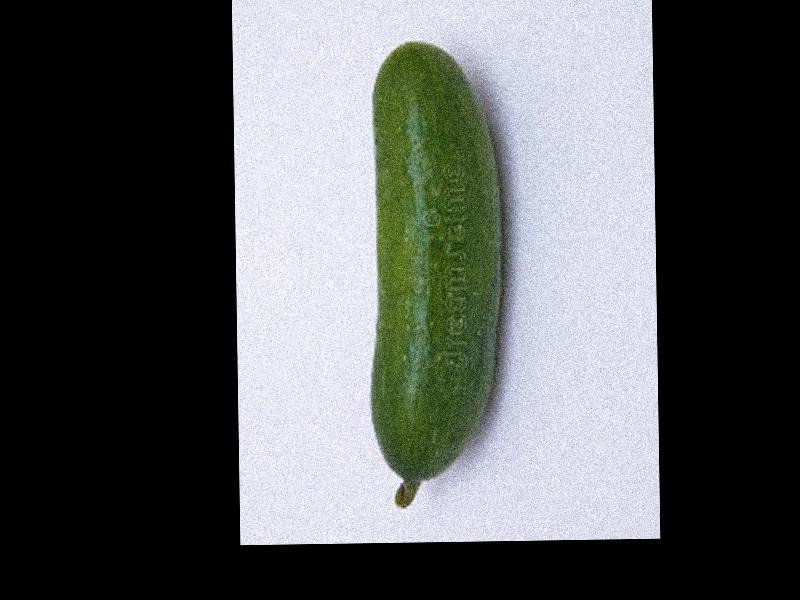Cucumber: (366, 39, 506, 508)
